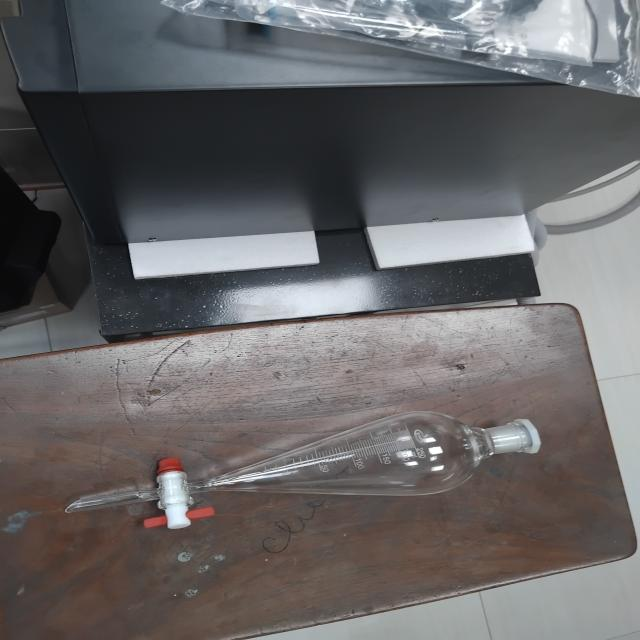Separating_Funnel: (25, 416, 572, 540)
